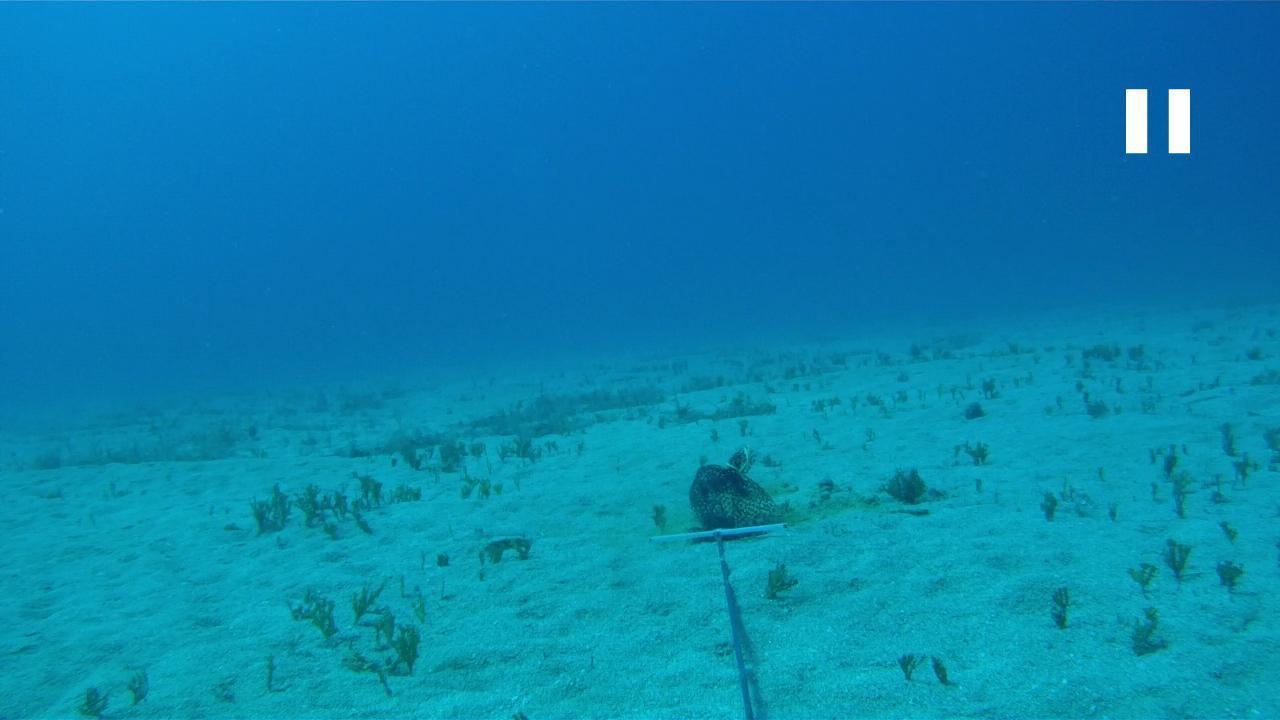bothus: (447, 524, 530, 549)
